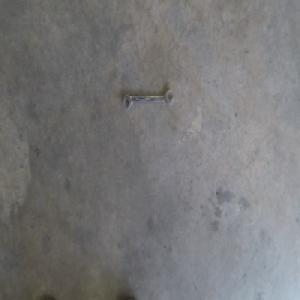Wrench: (123, 89, 174, 110)
